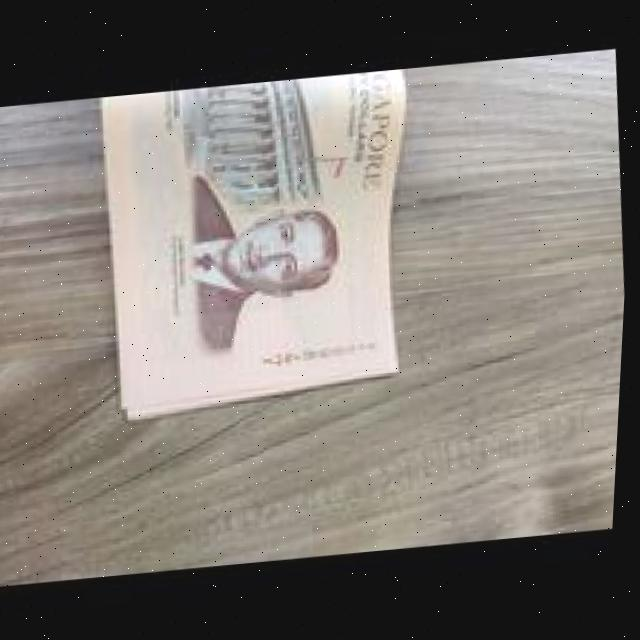banknote: (88, 66, 436, 421)
